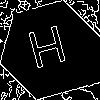H: (25, 25, 72, 78)
